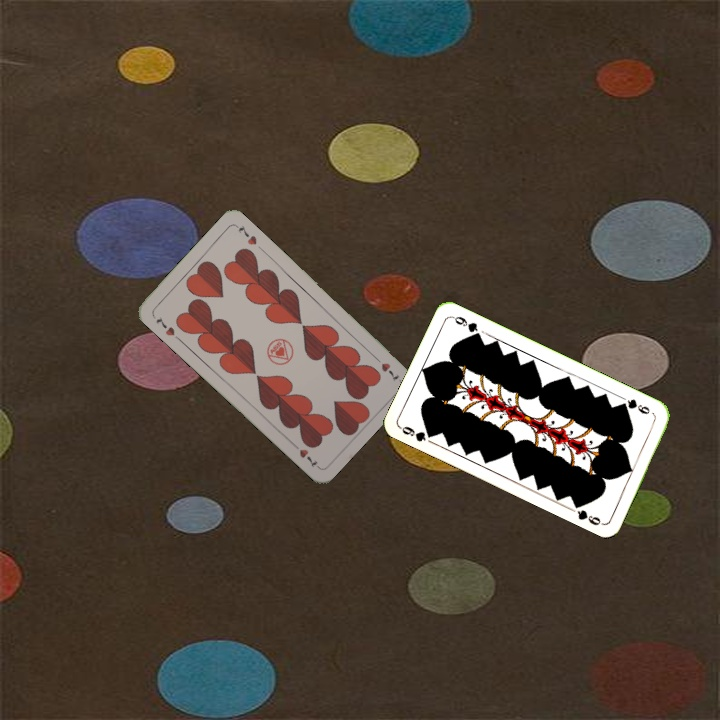G9: (396, 422, 437, 444), (617, 395, 652, 417)
H7: (370, 351, 402, 384), (152, 313, 177, 338)
